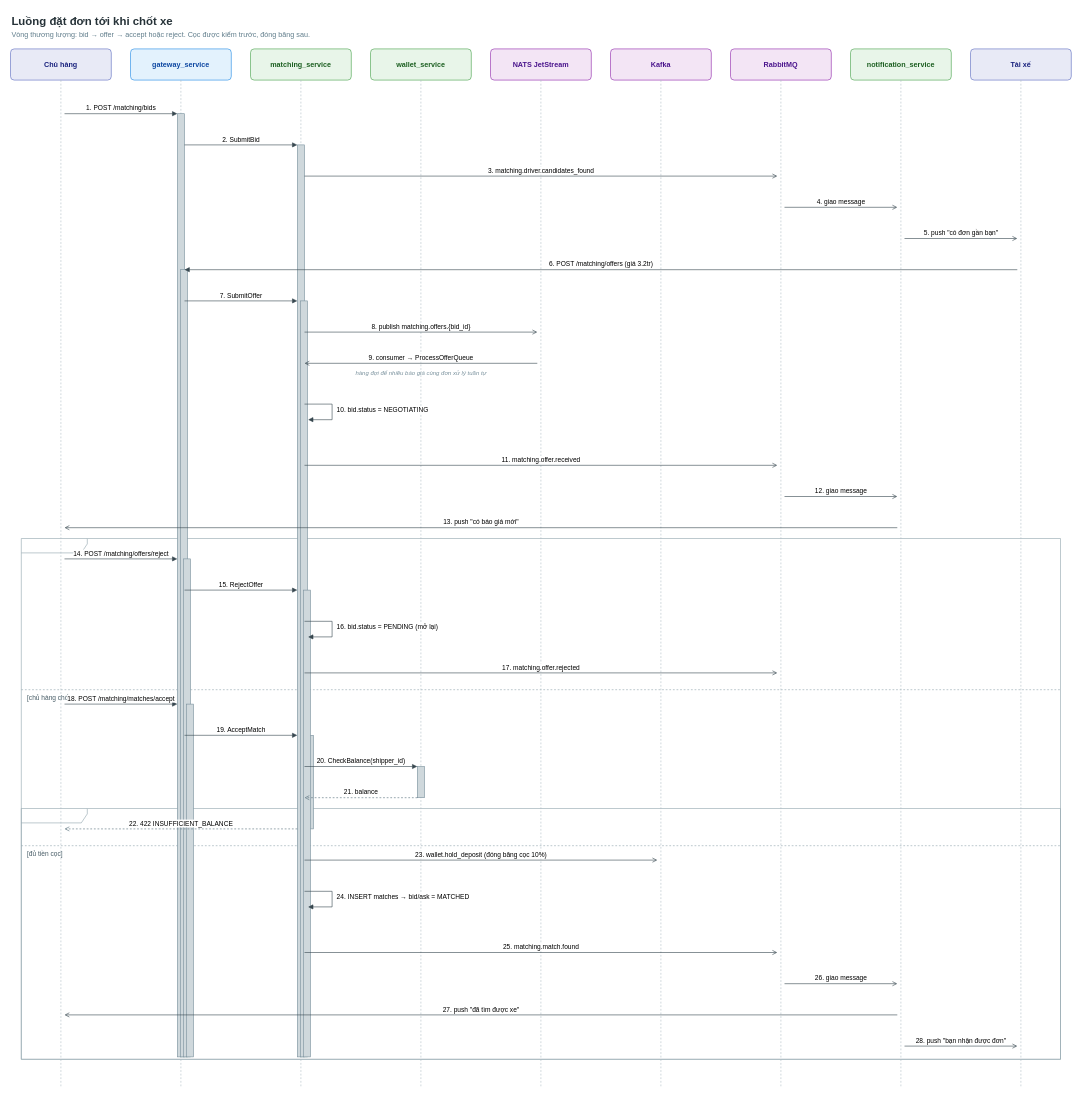
Image size: 1082x1098. Some labels were removed from this diagram. Each missing label, with the box of its shape:
alt [chủ hàng từ chối giá]: (21, 538, 1060, 1059)
alt [số dư không đủ]: (21, 808, 1060, 1059)
